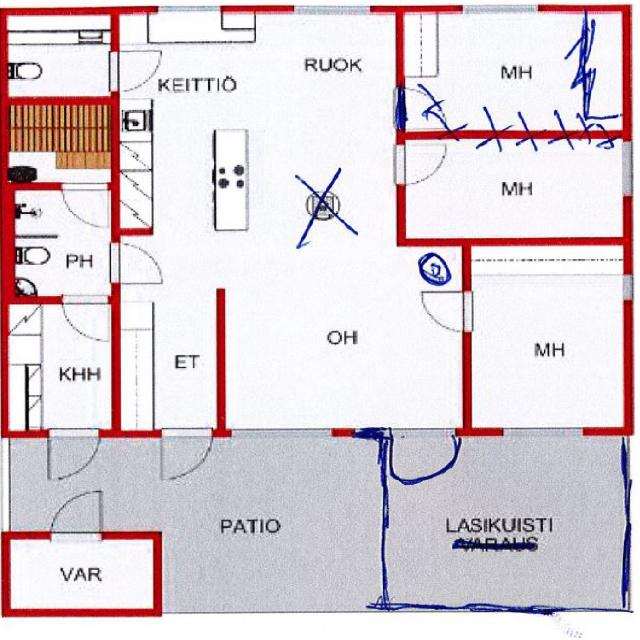door: (393, 427, 453, 490), (50, 486, 101, 540), (162, 427, 213, 480), (49, 427, 98, 479), (62, 296, 108, 344), (110, 242, 165, 282), (396, 144, 450, 184), (62, 182, 107, 230), (419, 292, 472, 330), (110, 52, 163, 90)
